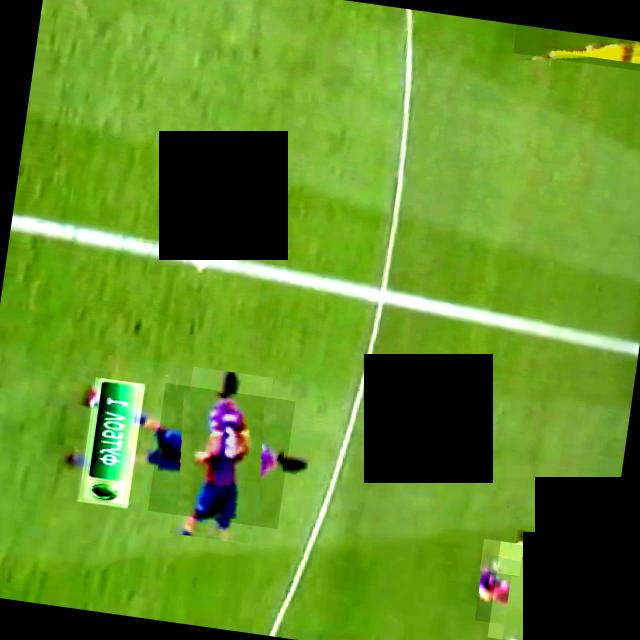ball: (478, 539, 522, 576)
soccer-player: (146, 383, 294, 529), (486, 541, 595, 640), (512, 24, 640, 74)
